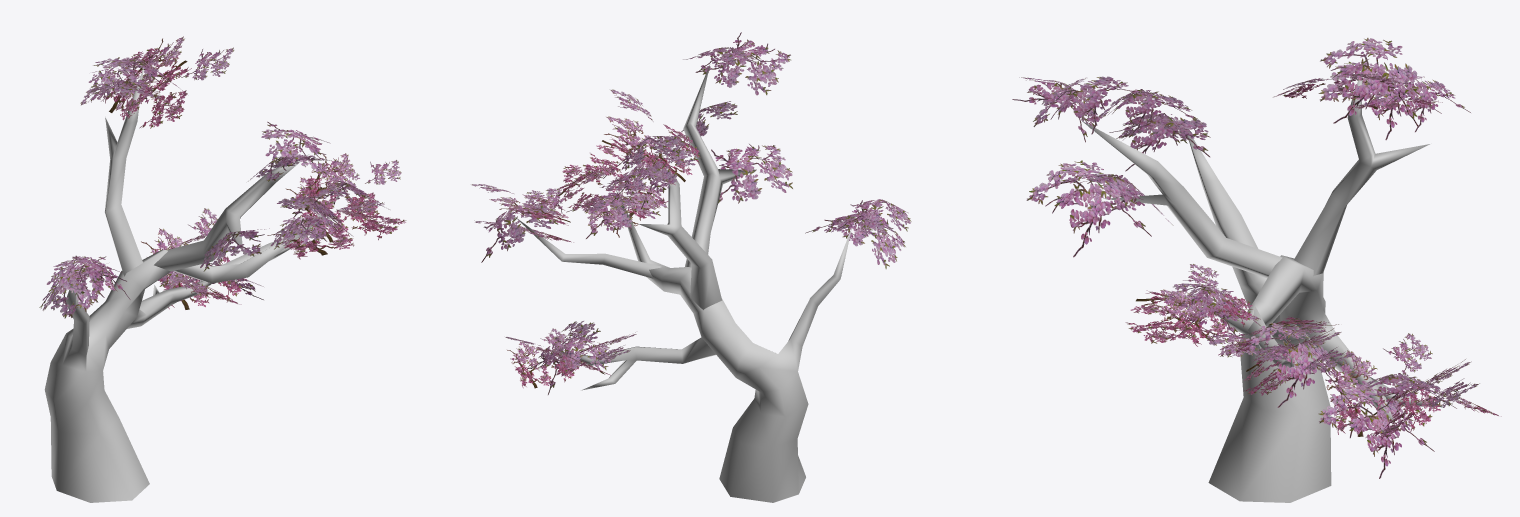
The model's file is environment_Tree_taoshu_001_f.FBX.
The picture shows the model from 3 angles, left to right: view 1: azimuth 30°, elevation 25°; view 2: azimuth 150°, elevation 25°; view 3: azimuth 270°, elevation 25°; orthographic projection. The views are drawn at different scales.
Visible parts, largest first — view 1: nvironment_Tree_taoshu_001_f_01, nvironment_Tree_taoshu_001_f_03; view 2: nvironment_Tree_taoshu_001_f_01, nvironment_Tree_taoshu_001_f_03; view 3: nvironment_Tree_taoshu_001_f_03, nvironment_Tree_taoshu_001_f_01.
Part boxes in pixels (left/top/right/bottom): nvironment_Tree_taoshu_001_f_01: left=44, top=68, right=345, bottom=502; nvironment_Tree_taoshu_001_f_03: left=39, top=36, right=406, bottom=318; nvironment_Tree_taoshu_001_f_01: left=515, top=65, right=851, bottom=502; nvironment_Tree_taoshu_001_f_03: left=471, top=32, right=911, bottom=394; nvironment_Tree_taoshu_001_f_03: left=1012, top=37, right=1501, bottom=478; nvironment_Tree_taoshu_001_f_01: left=1081, top=71, right=1442, bottom=502.
Size of the model in its own units: 428 by 363 by 366.
